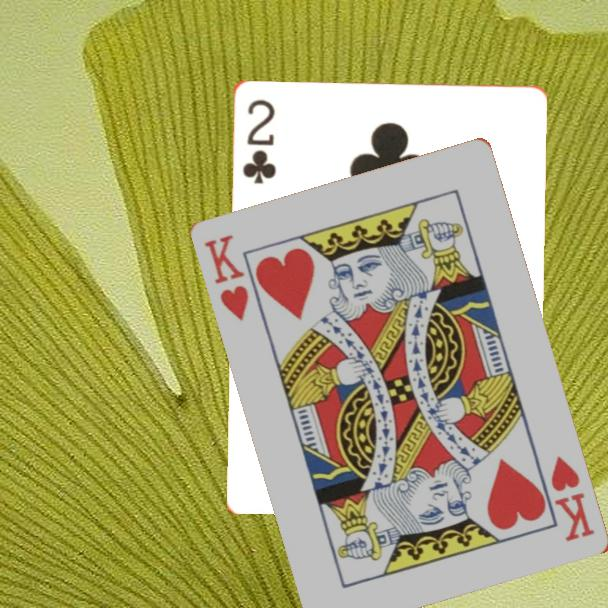c02: (238, 95, 278, 186)
h13: (201, 231, 252, 324), (548, 452, 598, 545)
